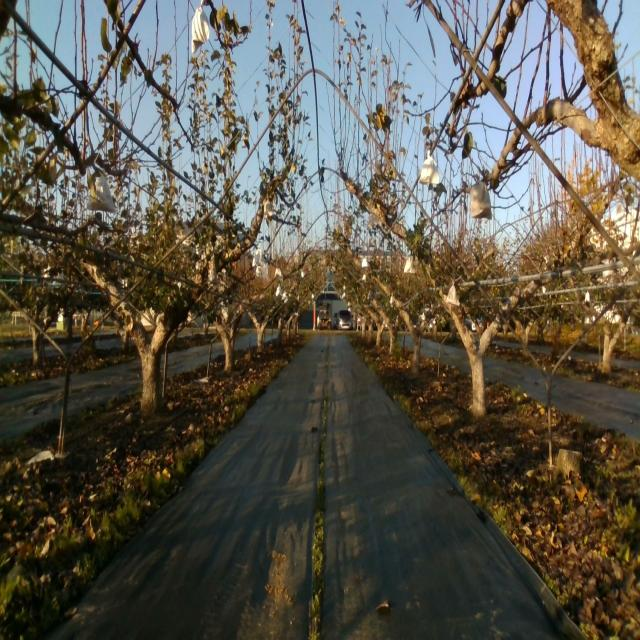pearbags: (86, 168, 116, 214), (190, 0, 211, 54), (469, 182, 493, 221), (419, 156, 441, 186), (446, 284, 461, 306), (205, 263, 218, 287), (403, 256, 416, 276), (252, 247, 263, 268), (263, 200, 275, 219)
